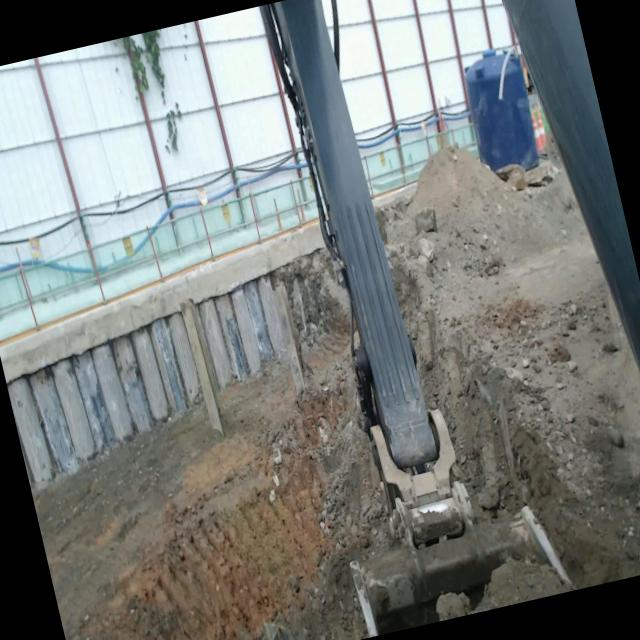white-sand: (377, 147, 640, 589), (31, 331, 390, 640), (435, 557, 574, 621)
